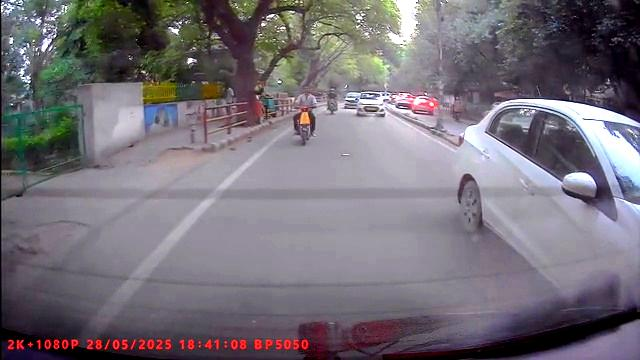motorcycle_without_helmet: (291, 84, 318, 147)
